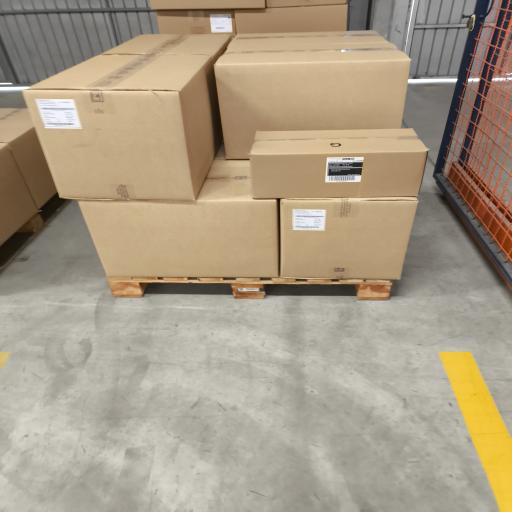pallet: (108, 277, 392, 300), (0, 195, 69, 271)
